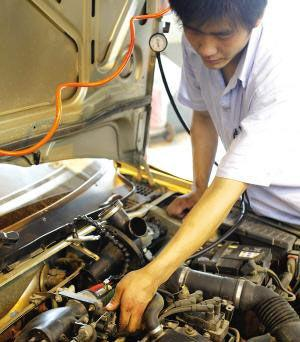person: (107, 1, 300, 336)
